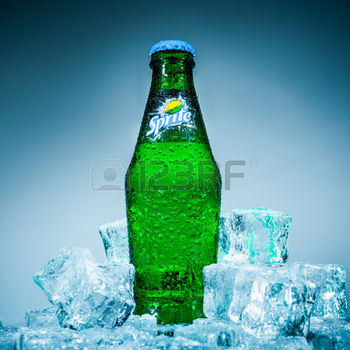sprite: (145, 106, 190, 136)
